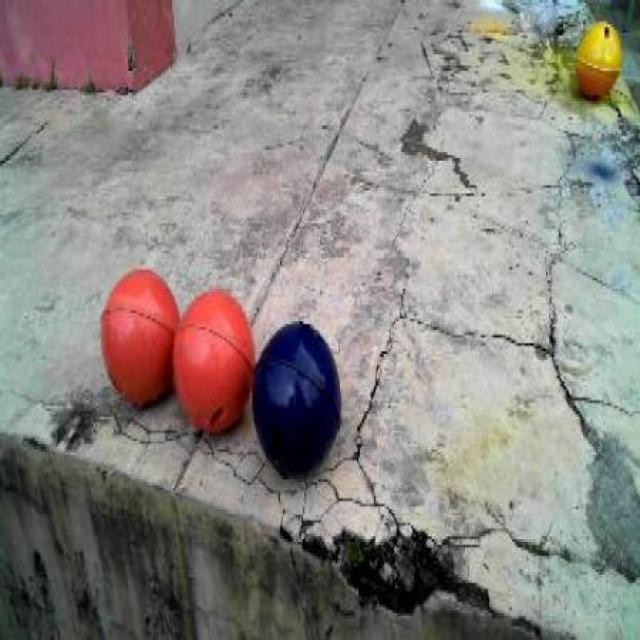buoy: (243, 302, 344, 490), (167, 272, 261, 445), (89, 253, 185, 420), (564, 1, 626, 113)
